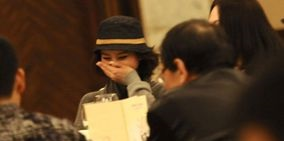face: (100, 49, 136, 82)
